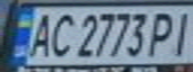2: (72, 9, 100, 58)
3: (124, 9, 154, 57)
7: (93, 9, 118, 58), (112, 9, 136, 57)
A: (21, 10, 57, 60)
C: (45, 9, 78, 58)
I: (166, 8, 193, 57)
P: (145, 8, 184, 57)
